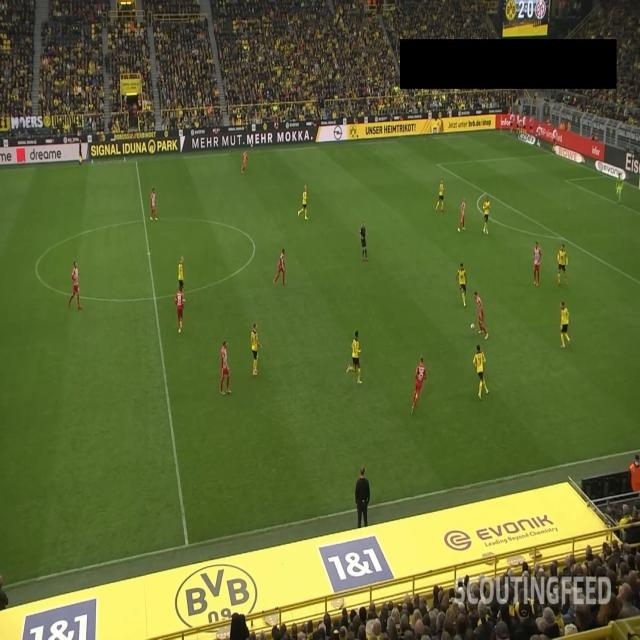ball: (470, 322, 475, 331)
